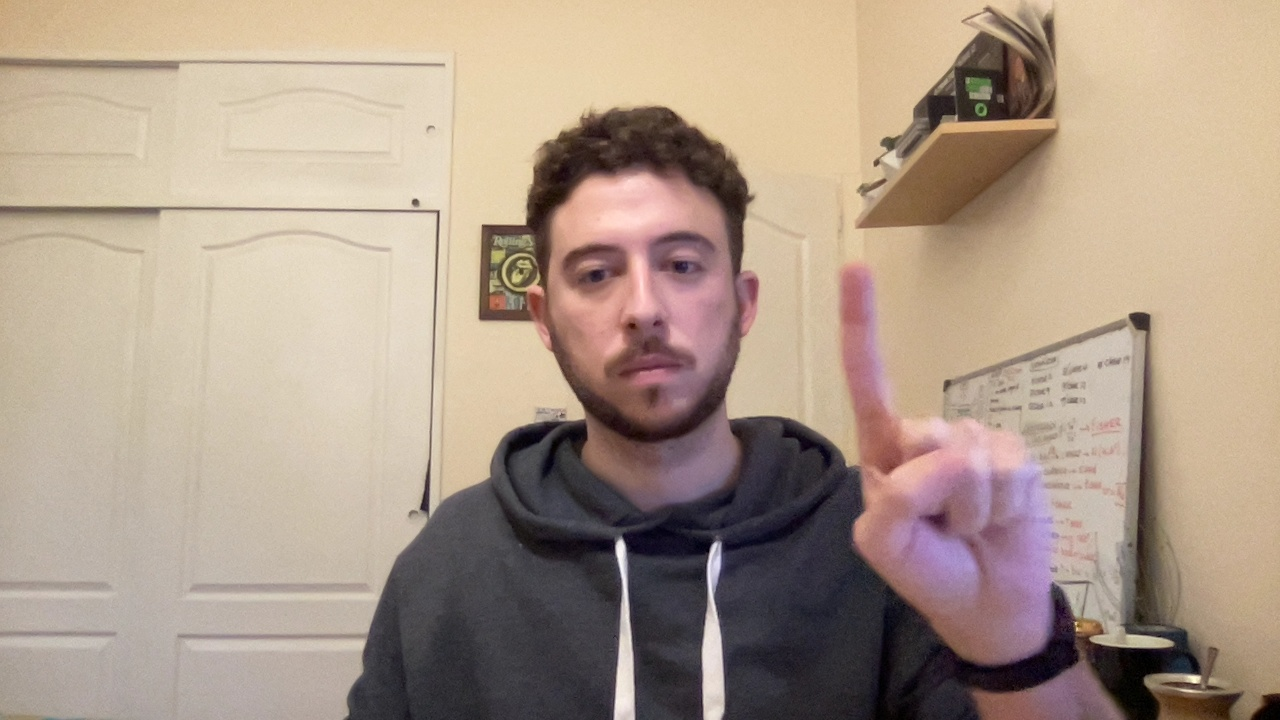indice: (798, 249, 1084, 655)
